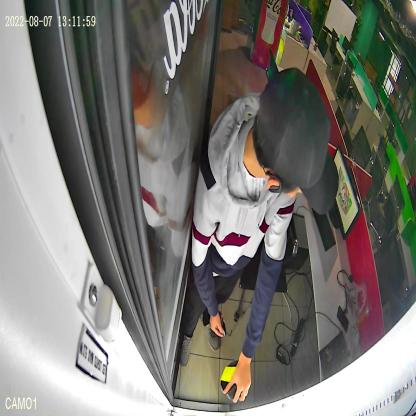yellow: (220, 360, 240, 400)
